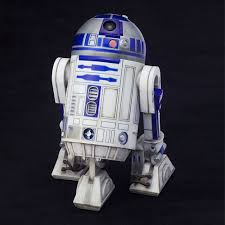r2d2: (51, 13, 177, 210)
